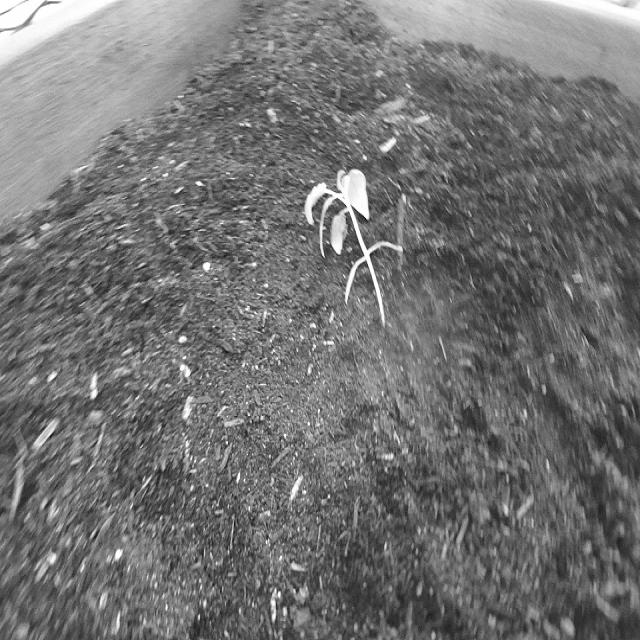Healthy: (296, 149, 414, 358)
